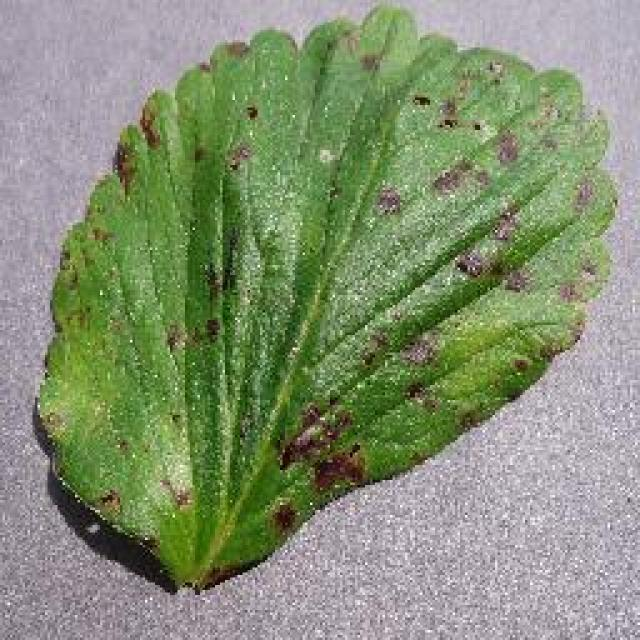Strawberry leaf scorch: (123, 65, 537, 488)
